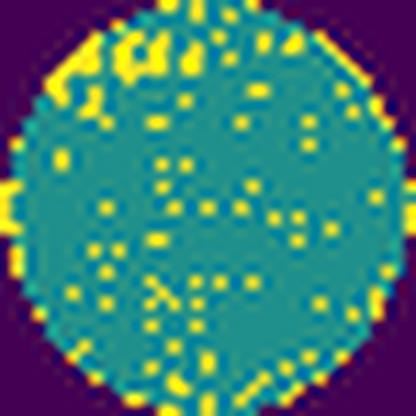Edge-Loc: (113, 26, 167, 86)
